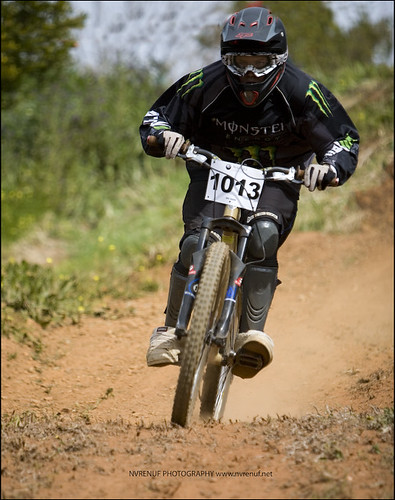helmet: (208, 8, 302, 105)
